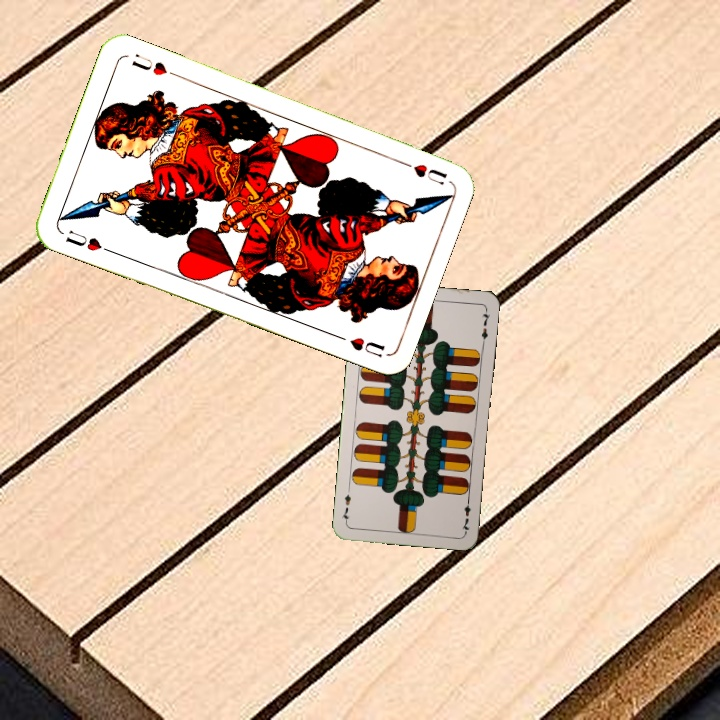E7: (458, 494, 473, 534)
HU: (394, 156, 450, 188), (61, 226, 115, 256)
